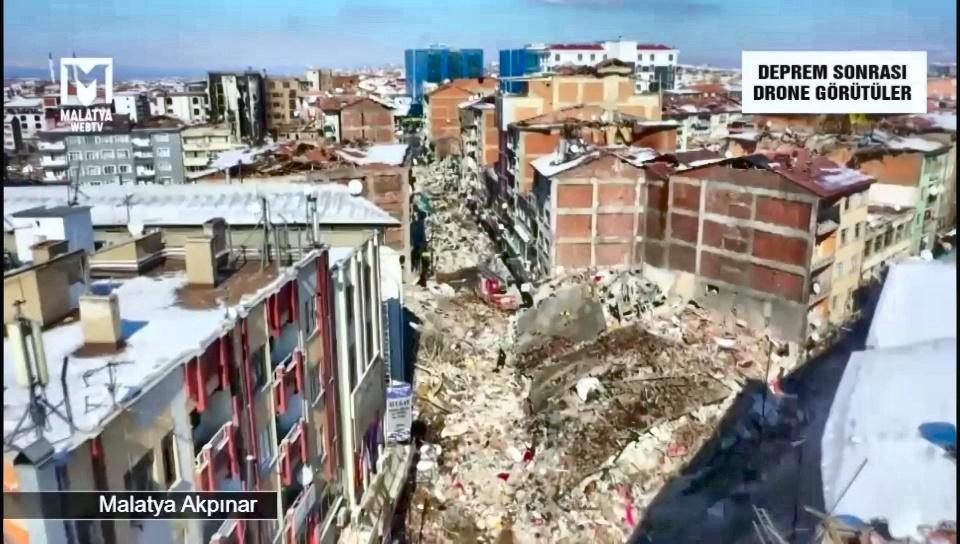kapali: (383, 277, 584, 543), (411, 164, 515, 279)
